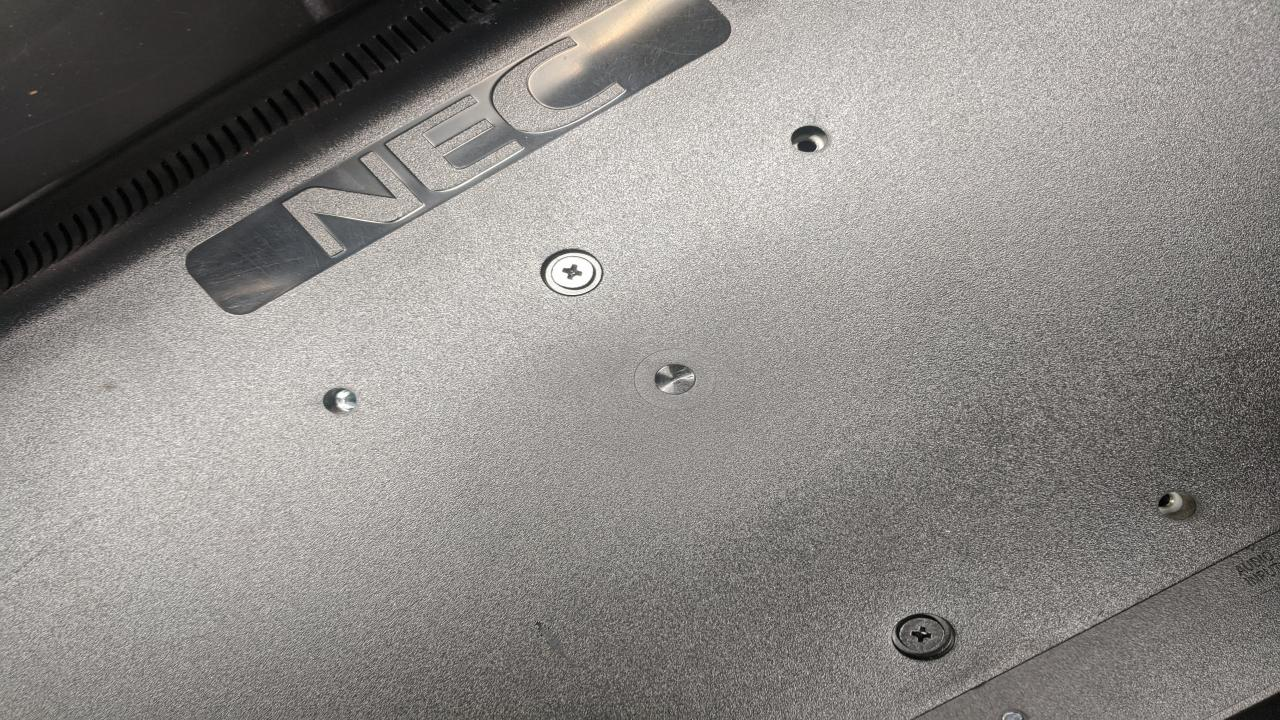CRS: (892, 613, 954, 659), (546, 252, 601, 293)
